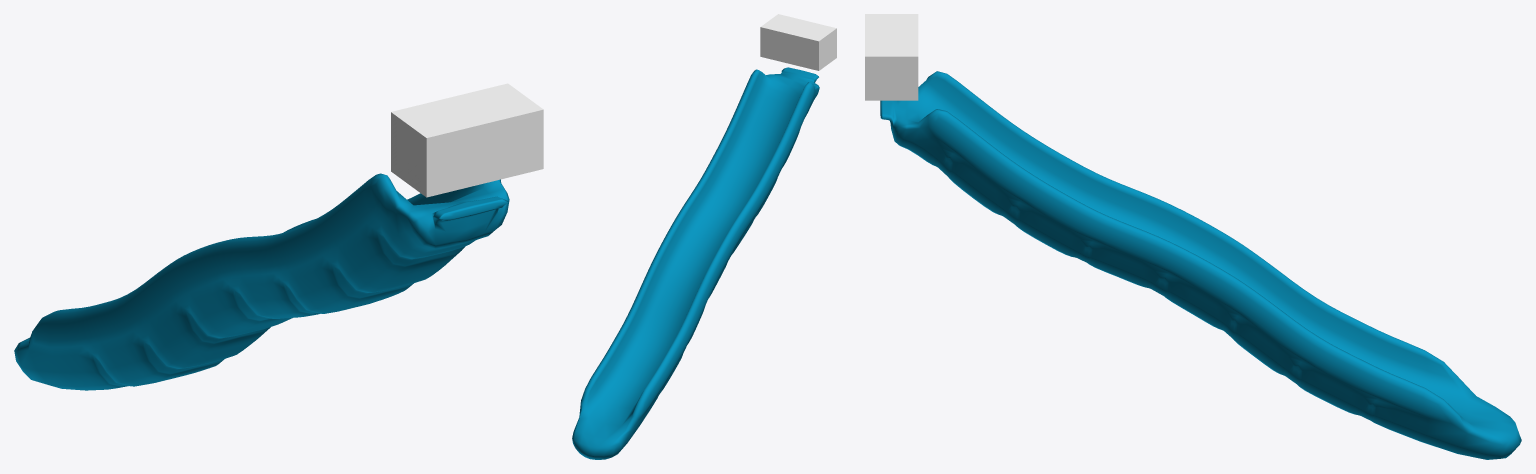
Rendered from SWS-14.619bdd64.glb.
3 views of the same model, side by side, from view 1: azimuth 30°, elevation 25°; view 2: azimuth 150°, elevation 25°; view 3: azimuth 270°, elevation 25° (orthographic). The views are drawn at different scales.
Visible parts, largest first — view 1: Plane035,_colorize_, joint,0,8; view 2: Plane035,_colorize_, joint,0,8; view 3: Plane035,_colorize_, joint,0,8.
Boxes of the visible parts, x1,y1,x2,y2 form: Plane035,_colorize_: (14,173,509,390); joint,0,8: (391,83,543,197); Plane035,_colorize_: (572,67,819,459); joint,0,8: (760,14,836,70); Plane035,_colorize_: (880,71,1521,459); joint,0,8: (865,14,918,100).
Bounding box in the file's own units: 0.5938 × 2.6 × 3.72.
